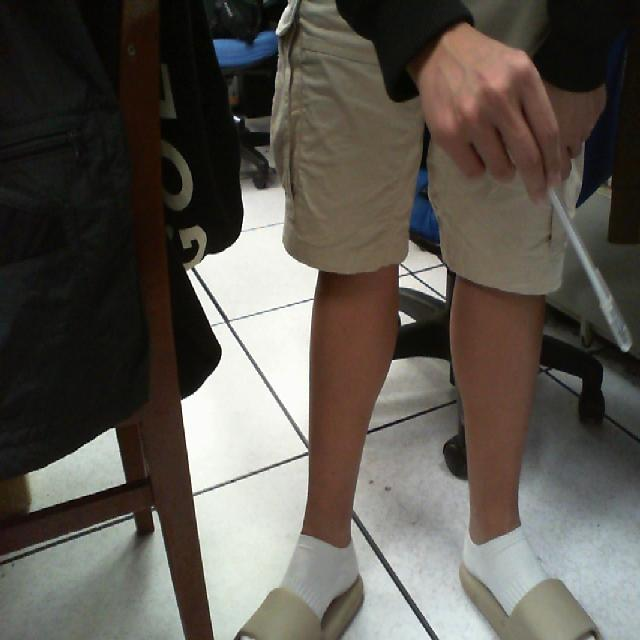Pen: (518, 135, 640, 409)
